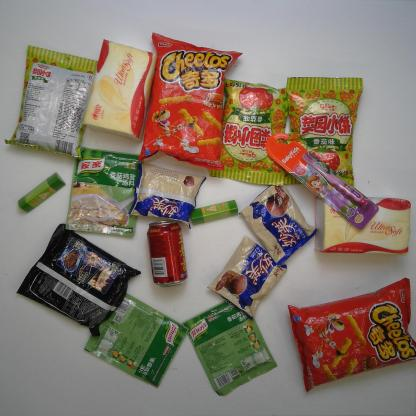Dessert: (209, 237, 289, 317), (242, 183, 315, 264), (128, 162, 208, 230)
Drink: (147, 219, 187, 286)
Instant Noodles: (16, 221, 140, 336)
Personal Hygiene: (263, 131, 380, 231)
Puffed Food: (135, 30, 243, 172), (287, 278, 414, 390), (4, 45, 100, 157), (286, 74, 364, 190), (207, 78, 288, 187)
Seasoner: (82, 290, 191, 388), (181, 297, 278, 399), (68, 146, 142, 237)
Stationery: (17, 172, 64, 212), (189, 200, 238, 225)
Tissue: (83, 40, 157, 141), (317, 192, 410, 256)
